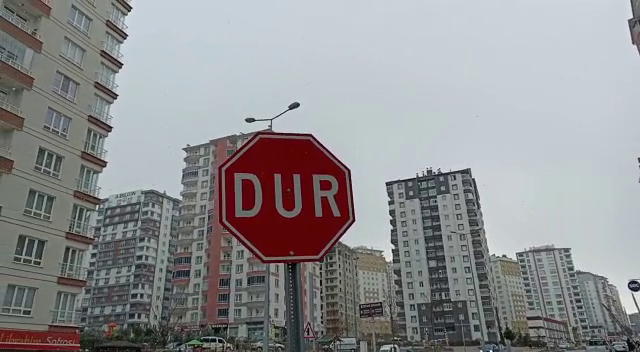stop: (216, 129, 358, 266)
